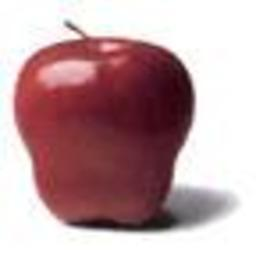apple: (12, 35, 211, 228)
